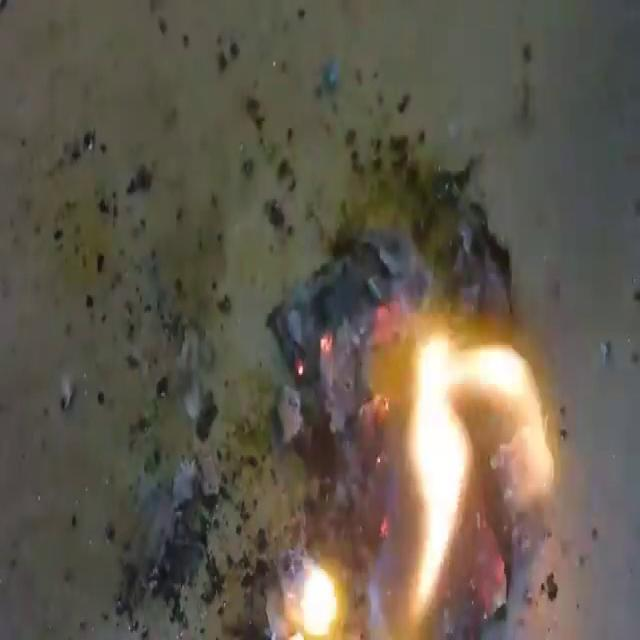Fire: (215, 229, 590, 639)
